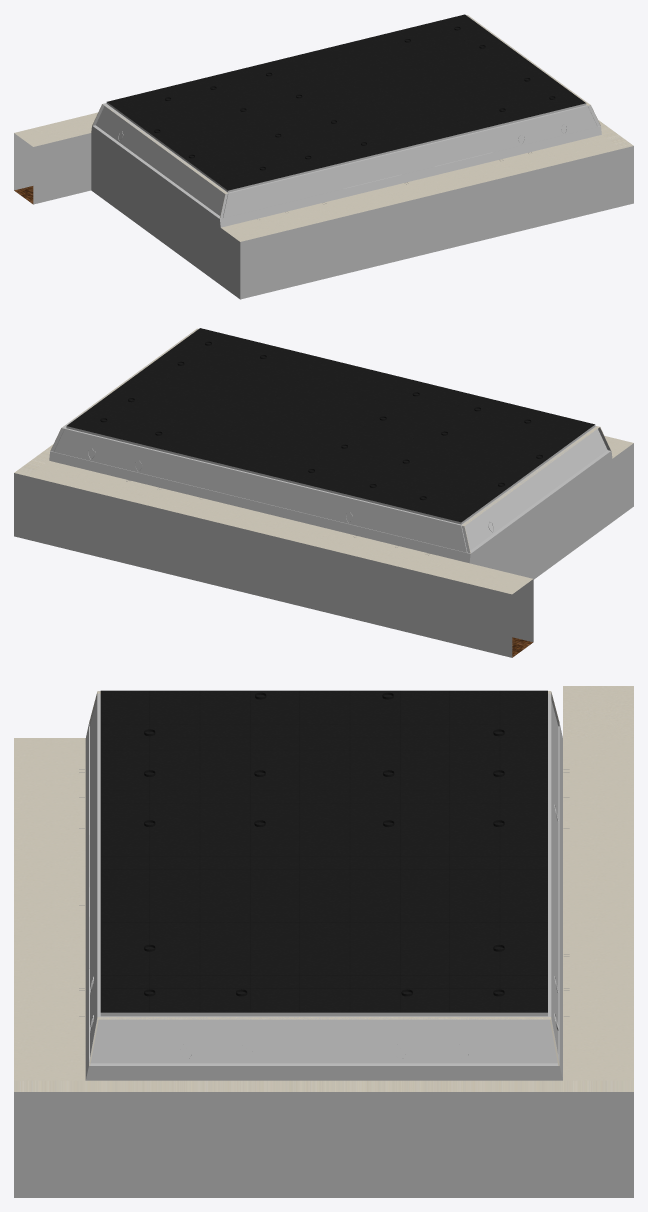
File: Winchester.fbx
3 renders of one model, top to bottom at view 1: azimuth 30°, elevation 25°; view 2: azimuth 150°, elevation 25°; view 3: azimuth 270°, elevation 25°, orthographic. The views are drawn at different scales.
Visible parts, largest first — view 1: Baked.011; view 2: Baked.011; view 3: Baked.011.
Part boxes in pixels (x1,y1,x2,y2): Baked.011: (14,14,633,299); Baked.011: (14,328,633,657); Baked.011: (14,686,633,1197).
Bounding box in the file's own units: 1481 × 282 × 956.
